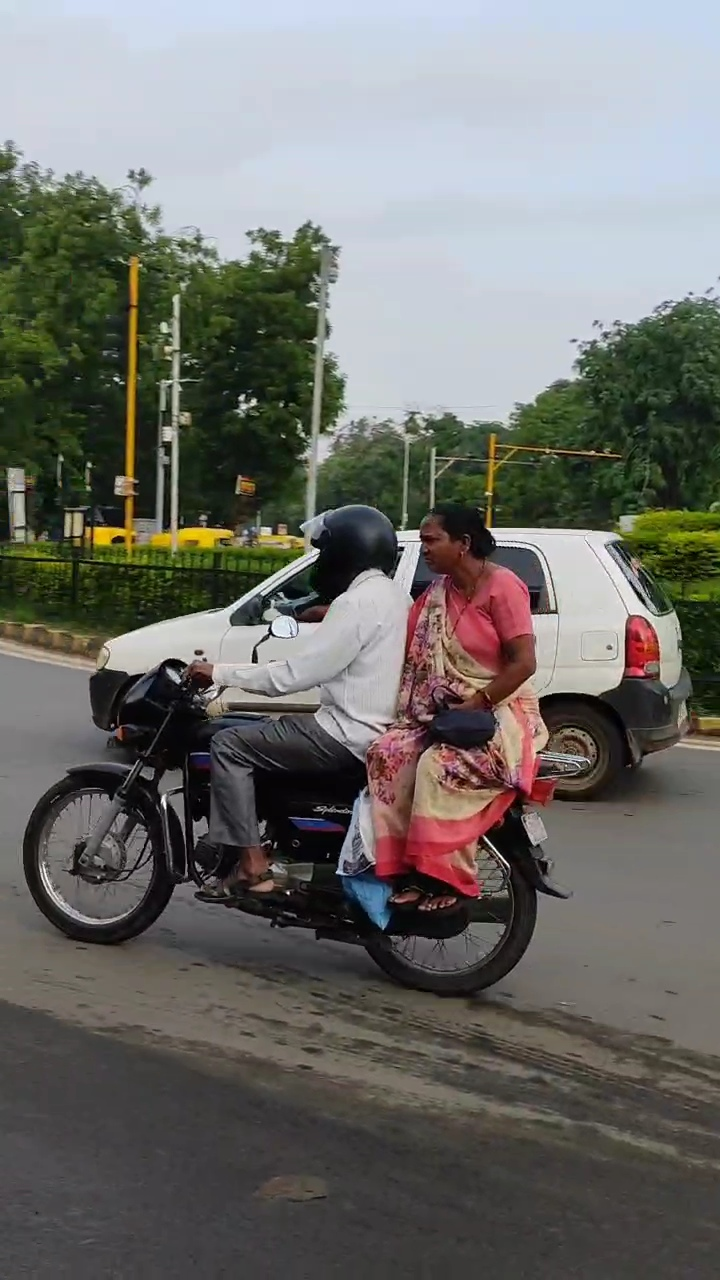BikeWithRider: (8, 489, 587, 1003)
Helmet: (299, 496, 408, 597)
NoHelmet: (415, 499, 501, 580)
